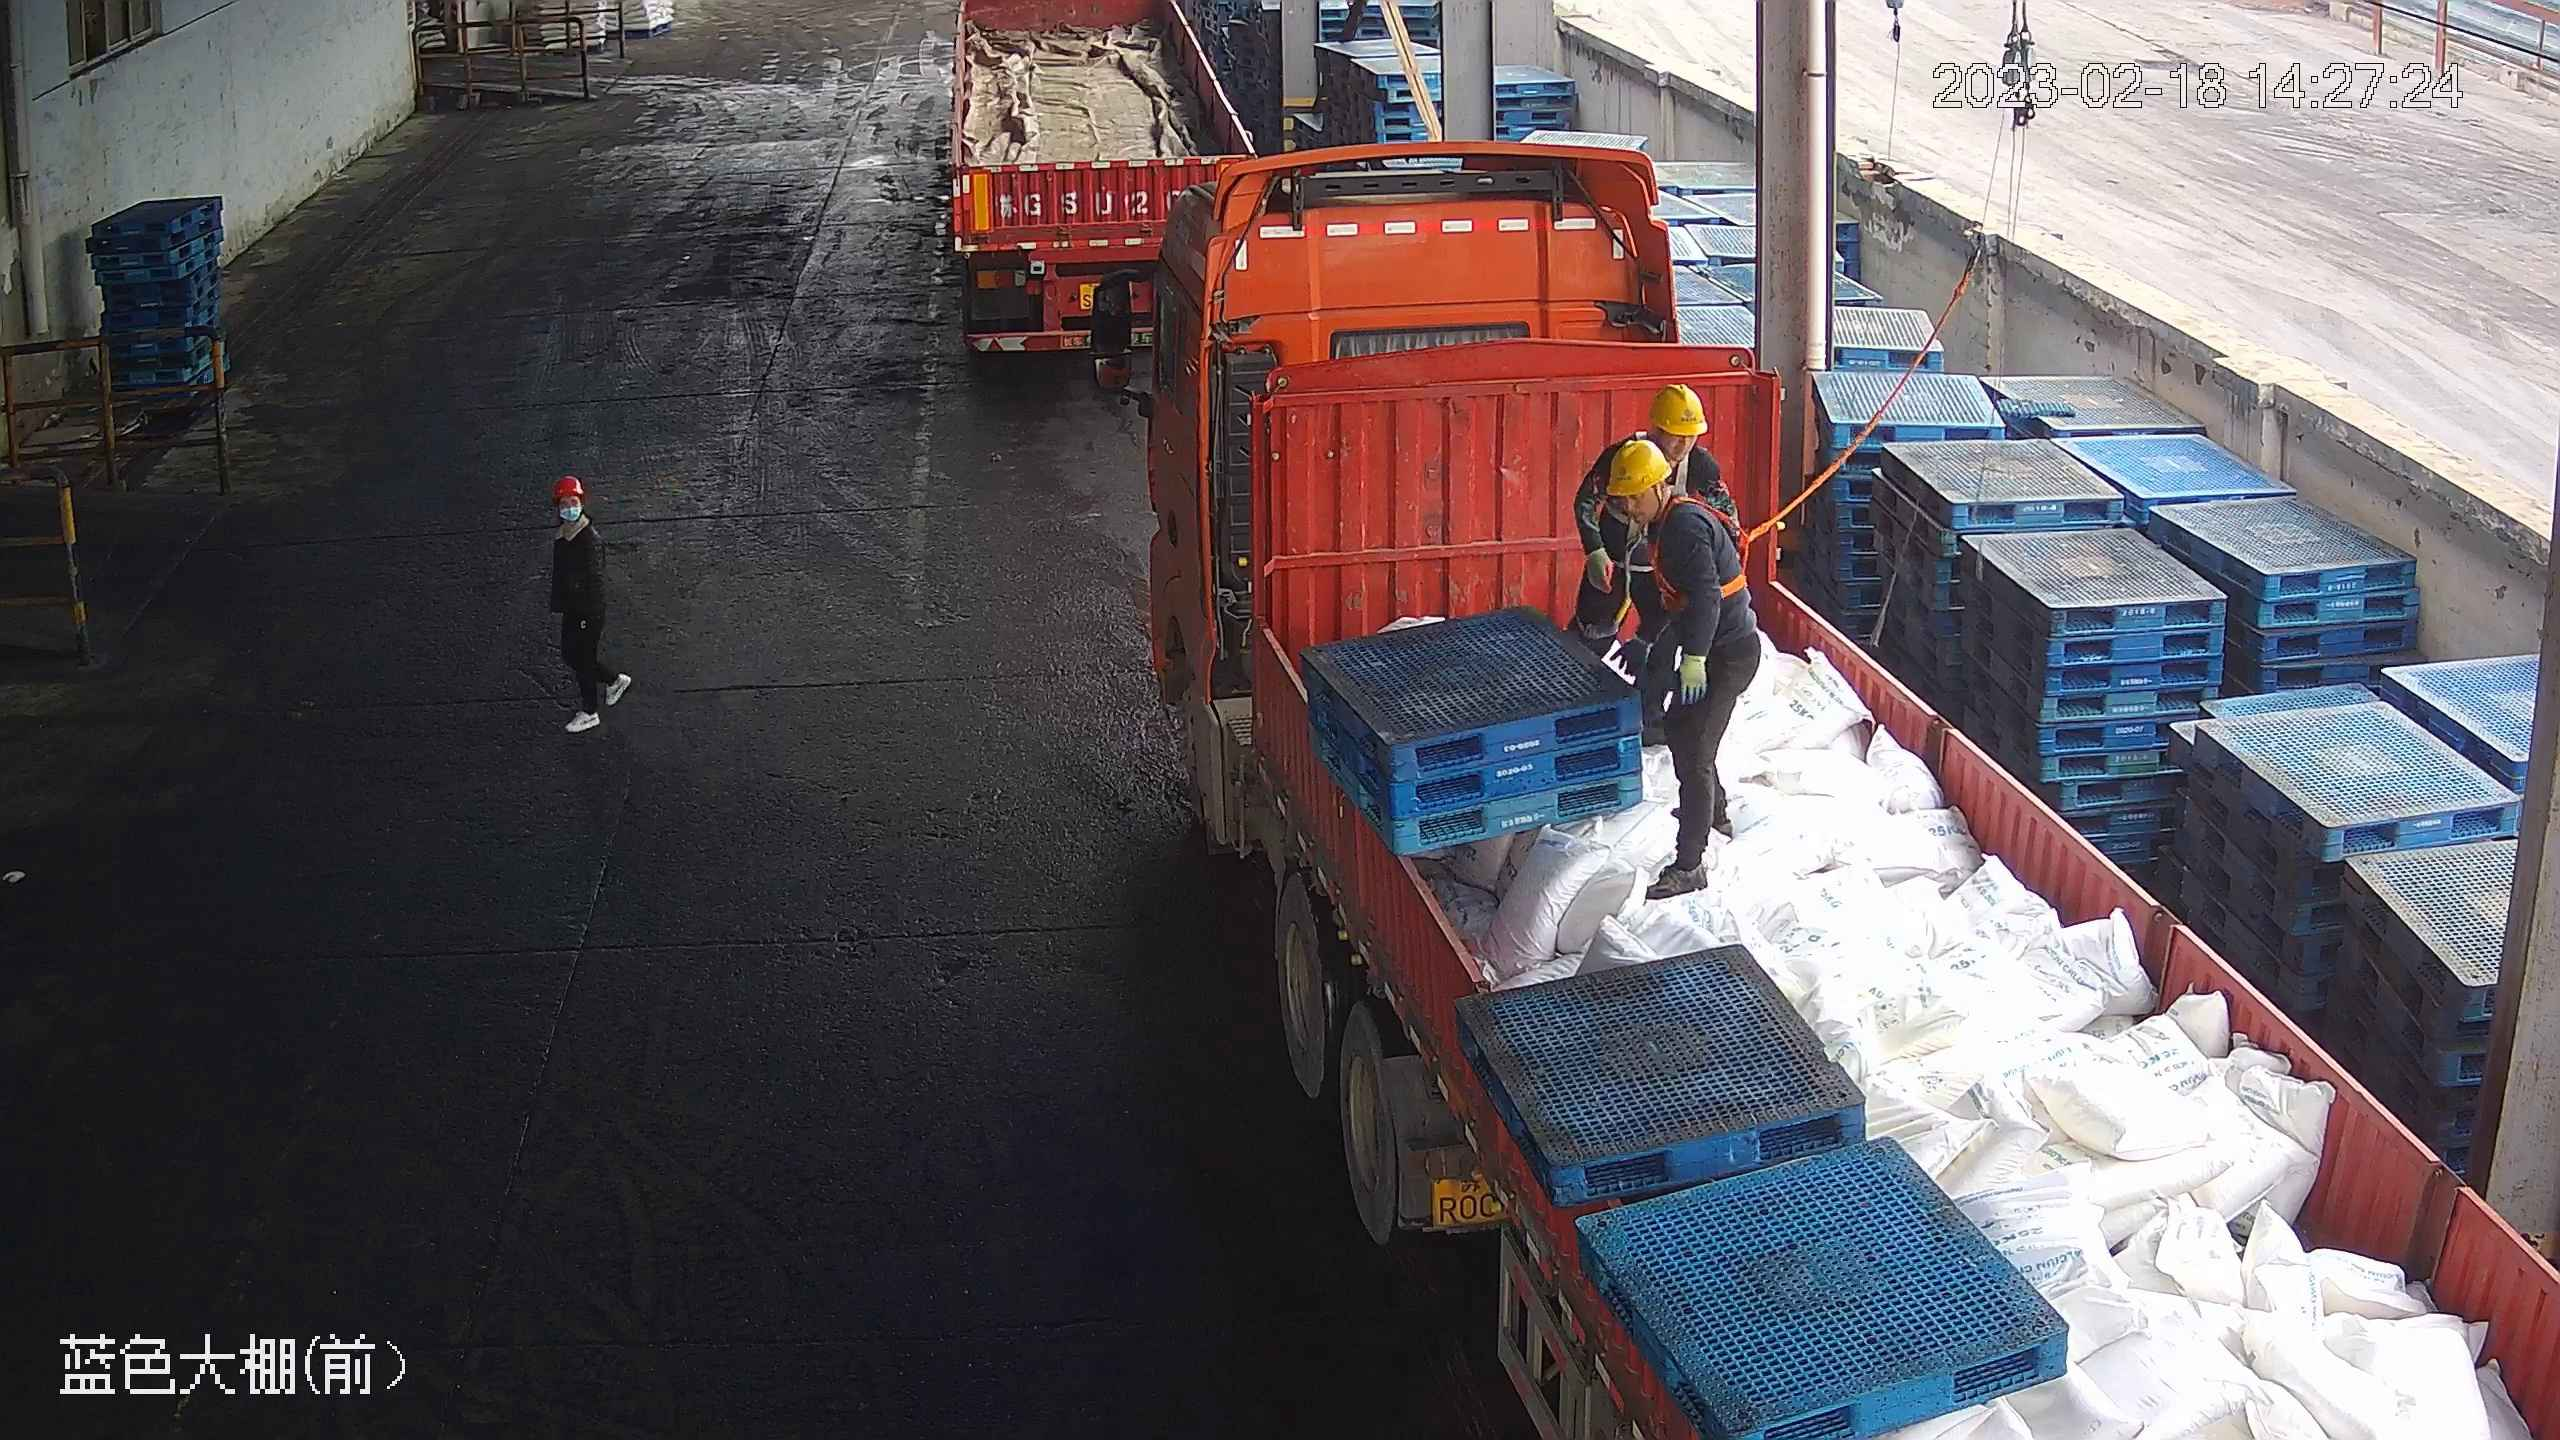belt: (1642, 495, 1757, 604), (1626, 424, 1707, 495)
head: (1604, 435, 1730, 572), (1596, 386, 1735, 500), (543, 476, 608, 559)
helmet: (1607, 440, 1674, 497), (1652, 384, 1709, 436), (551, 476, 586, 502)
people: (1606, 436, 1763, 902), (1563, 381, 1739, 745), (546, 477, 633, 735)
truck: (1084, 133, 2560, 1440), (944, 1, 1261, 383)
